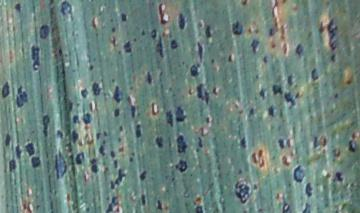tarspot: (319, 16, 338, 50), (53, 148, 69, 180), (267, 1, 281, 37), (108, 168, 127, 191), (234, 180, 251, 205), (281, 90, 303, 109), (196, 82, 212, 106), (103, 194, 123, 213), (14, 85, 29, 109), (29, 45, 42, 72), (249, 148, 266, 168), (59, 1, 74, 23), (41, 114, 52, 138), (158, 1, 169, 25), (174, 105, 188, 123), (292, 164, 305, 183), (196, 40, 205, 67), (176, 134, 187, 156), (155, 34, 165, 58), (231, 19, 244, 37), (68, 152, 78, 175), (1, 79, 11, 100), (312, 135, 327, 149), (164, 109, 175, 128), (38, 23, 50, 40), (111, 85, 122, 103), (175, 158, 188, 172), (188, 63, 201, 77), (177, 11, 186, 31), (294, 43, 305, 59), (133, 122, 143, 139), (300, 201, 314, 213), (24, 142, 36, 156), (270, 83, 284, 95), (91, 82, 103, 96), (81, 112, 93, 125), (30, 155, 41, 169), (250, 38, 259, 55), (7, 158, 17, 173), (304, 182, 313, 198), (281, 201, 293, 213), (204, 24, 213, 40), (70, 128, 79, 144), (122, 41, 133, 54), (347, 139, 357, 153), (75, 151, 85, 165), (14, 143, 23, 158), (150, 101, 159, 116), (21, 201, 32, 213), (310, 68, 320, 81), (79, 86, 89, 99), (154, 198, 163, 212), (98, 145, 107, 159), (89, 15, 98, 29), (258, 87, 266, 102), (281, 155, 291, 167), (155, 135, 164, 148), (169, 38, 178, 51), (3, 133, 12, 146), (239, 135, 247, 149), (145, 71, 153, 85), (129, 103, 136, 119), (334, 171, 344, 182), (55, 129, 65, 140), (63, 141, 73, 152), (199, 125, 208, 137), (140, 192, 147, 207), (267, 104, 275, 117), (14, 1, 22, 14), (150, 27, 158, 40), (109, 35, 117, 48), (89, 164, 99, 174), (344, 76, 354, 86), (196, 135, 203, 149), (113, 106, 121, 118), (247, 106, 255, 118), (125, 93, 133, 105), (211, 84, 218, 97), (137, 171, 147, 180), (111, 160, 120, 170), (109, 25, 118, 35), (71, 114, 81, 123), (277, 138, 285, 149), (120, 12, 128, 23), (286, 73, 293, 85), (282, 41, 288, 55), (89, 156, 98, 165), (261, 54, 269, 64), (329, 52, 336, 63), (285, 138, 292, 149), (101, 128, 108, 139), (195, 204, 203, 213), (194, 195, 202, 204), (236, 167, 244, 176), (57, 48, 64, 58), (88, 100, 93, 114), (95, 131, 102, 141), (186, 86, 193, 96), (246, 25, 253, 35), (117, 124, 125, 132), (269, 41, 277, 49), (129, 150, 137, 158), (252, 182, 259, 191), (109, 150, 115, 160), (227, 53, 233, 63), (197, 21, 204, 29), (117, 145, 124, 153), (333, 91, 339, 100), (140, 28, 146, 37), (205, 115, 211, 124), (274, 191, 280, 200), (100, 137, 106, 146), (239, 1, 249, 6), (128, 84, 135, 91), (253, 28, 260, 35), (88, 64, 94, 72), (128, 156, 134, 164), (255, 207, 263, 213), (254, 72, 260, 80), (209, 57, 215, 64), (47, 1, 53, 8), (109, 77, 116, 83), (84, 206, 90, 212), (116, 136, 121, 143), (281, 1, 287, 6), (194, 148, 199, 154), (132, 37, 136, 43)
